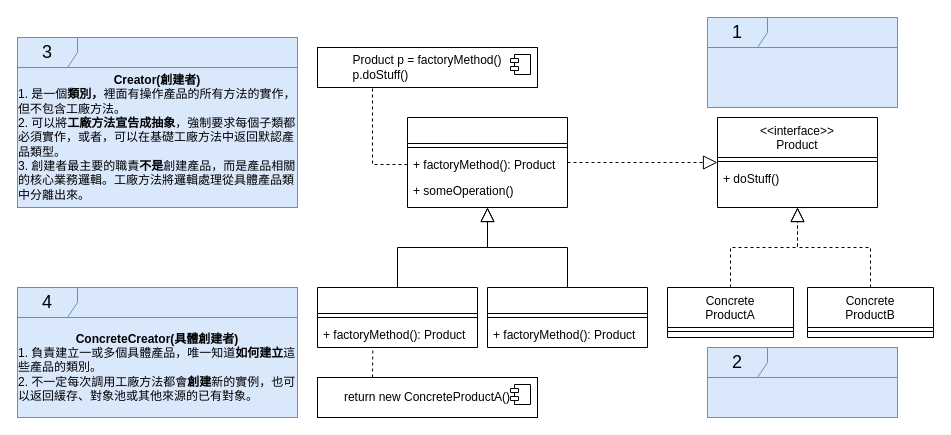
Image size: 951x435. Some labels were removed from this diagram. Each missing label, with the box of its shape:
ConcreteCreatorA: (316, 286, 478, 348)
ConcreteCreatorB: (486, 286, 648, 348)
ConcreteProduct(具體產品) 產品介面的不同實現: (706, 376, 898, 418)
Creator: (406, 116, 568, 208)
Product(產品) 所有產品都必須實作同一個介面，讓使用產品的類別 引用介面 ， 而不是引用具體類別。: (706, 46, 898, 108)
